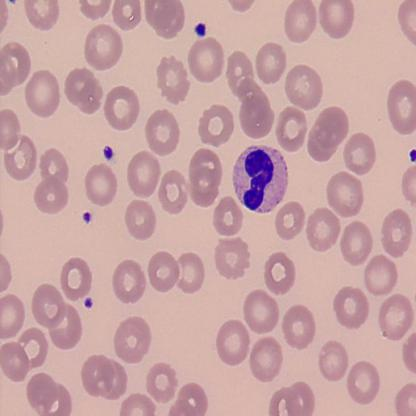Segmented neutrophil: (231, 143, 290, 214)
